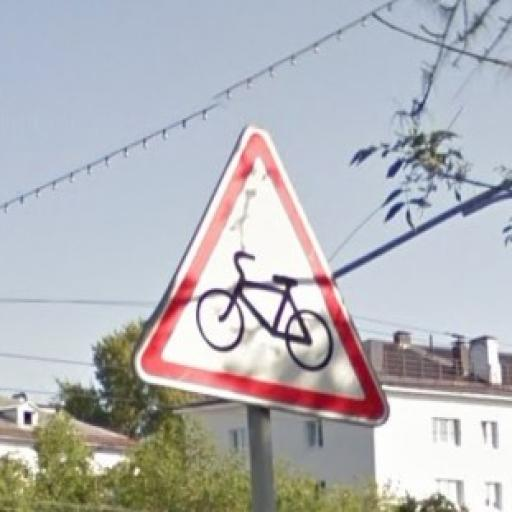traffic_sign: (131, 126, 395, 431)
